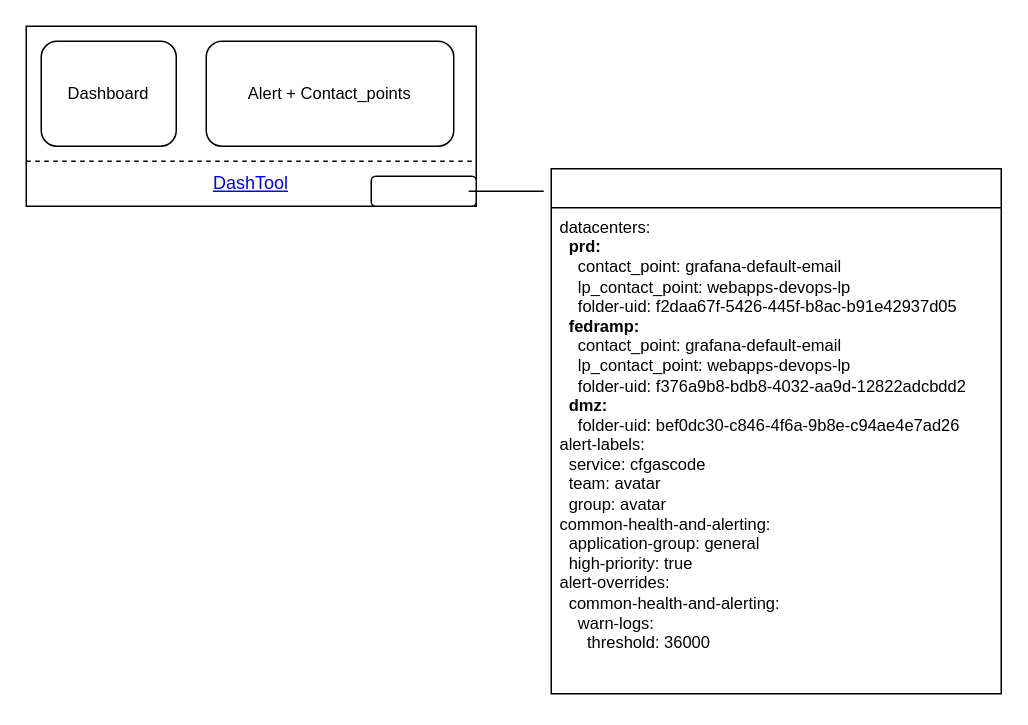
Image size: 1028x725. Some labels were removed from this diagram. The box of each missing label's shape, as (x1, y1, x2, y2) in pixels:
Config.yaml: (370, 175, 476, 206)
DashTool - Config.yaml: (550, 167, 1001, 694)
